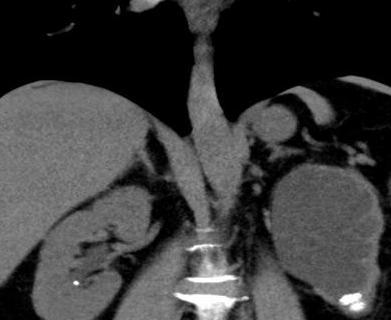Tas_Var: (338, 287, 372, 306), (347, 302, 372, 312), (70, 275, 82, 290)
